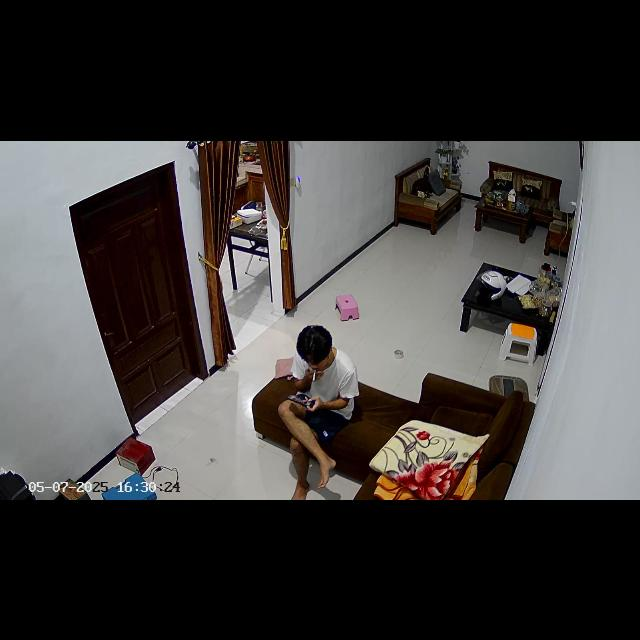rokok: (311, 367, 317, 381)
